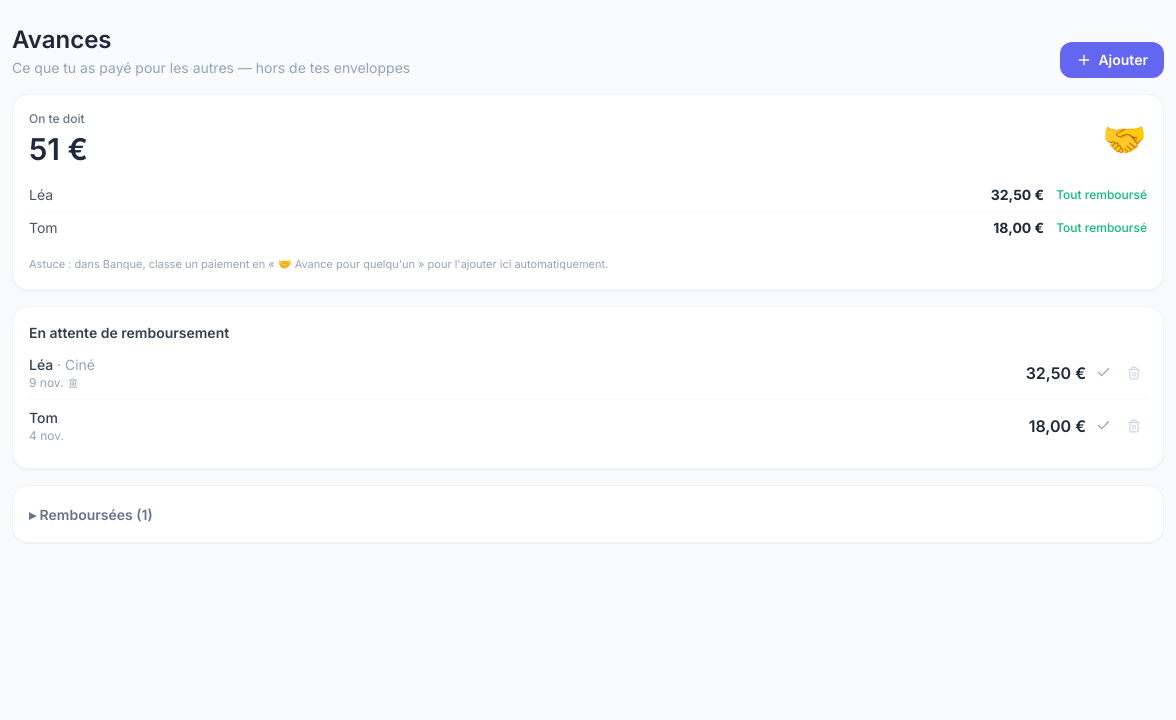
Avances › total dû, détail par personne, remboursement d'une personne entière
Expected: the text "On te doit" is shown, left=29, top=111, right=88, bottom=127
Expected: the text "51 €" is shown, left=29, top=131, right=88, bottom=167
Click the 1st button "Tout remboursé" at (1102, 195), box left=1056, top=187, right=1147, bottom=203
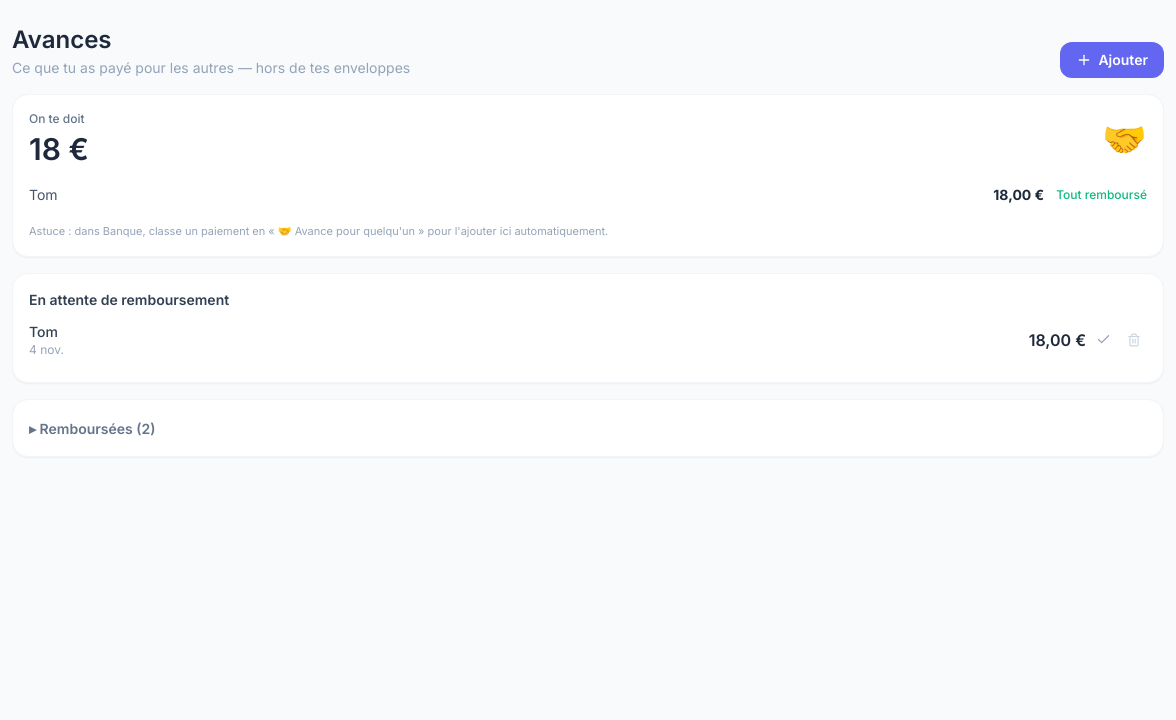
Expected: the text "18 €" is shown, left=29, top=131, right=89, bottom=167
